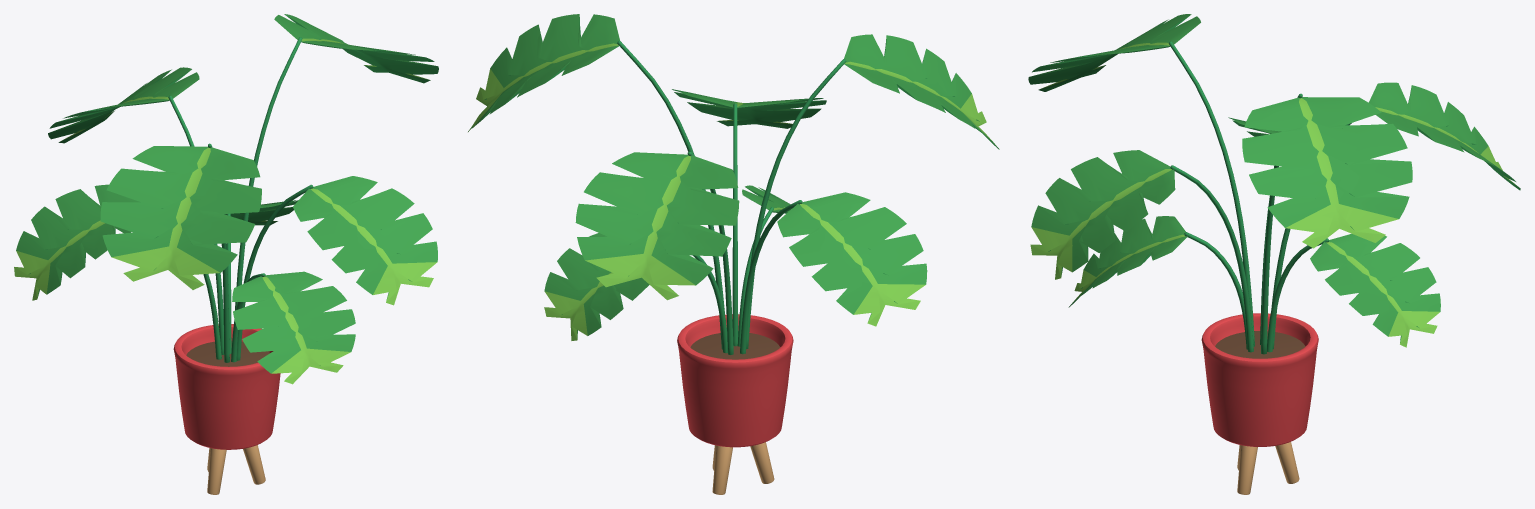
File: planta_costela_de_adao.glb
3 renders of one model, left to right at view 1: azimuth 30°, elevation 25°; view 2: azimuth 150°, elevation 25°; view 3: azimuth 270°, elevation 25°, orthographic. The views are drawn at different scales.
Visible parts, largest first — view 1: planta_costela_de_adao; view 2: planta_costela_de_adao; view 3: planta_costela_de_adao.
Boxes of the visible parts, <box> form: planta_costela_de_adao: <box>14,14,438,494</box>; planta_costela_de_adao: <box>468,14,999,494</box>; planta_costela_de_adao: <box>1028,14,1520,494</box>.
Bounding box in the file's own units: 1.27 × 1.23 × 1.26.
1 material, 1 textured.
